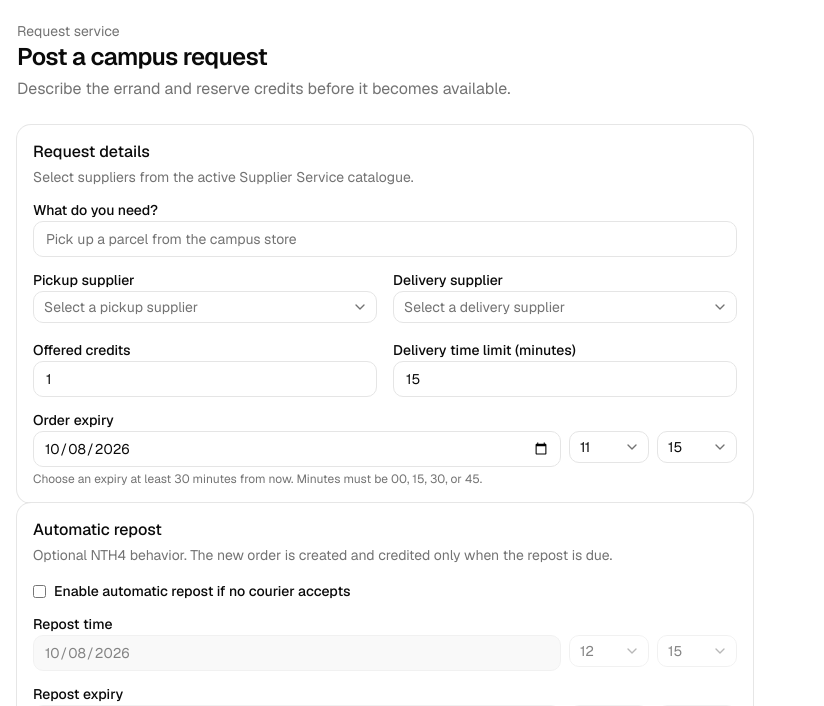
request creation quarter-hour time integration › has a required automatic-repost expiry with quarter-hour minutes only
The image size is (824, 706).
Click the checkbox labelled "Enable automatic repost if no courier accepts".
click(40, 591)  # box [33,584,46,598]
(page scrolled)
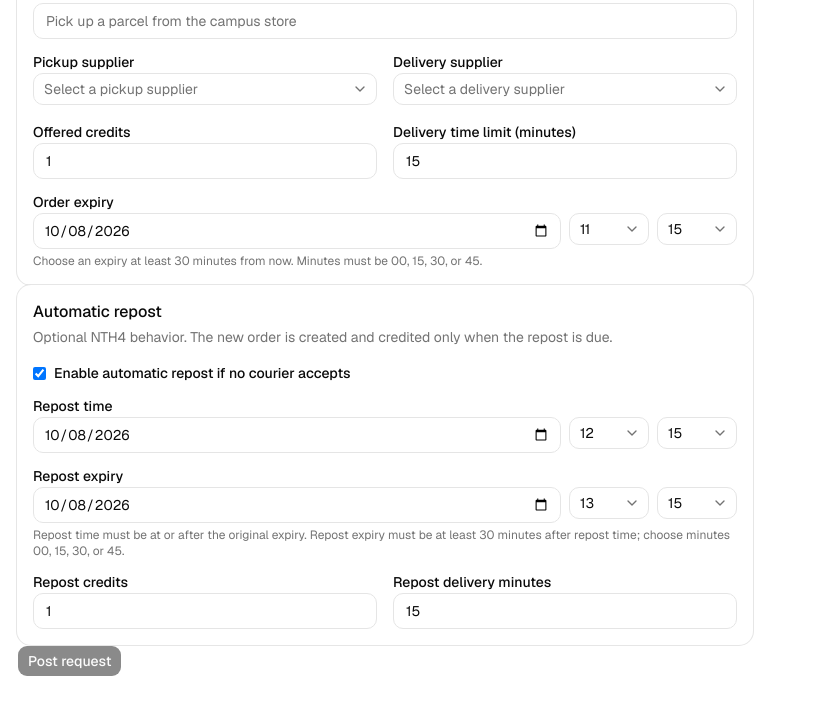
Click the 3rd dropdown labelled "15 ▼".
click(697, 503)  # box [657,487,737,519]
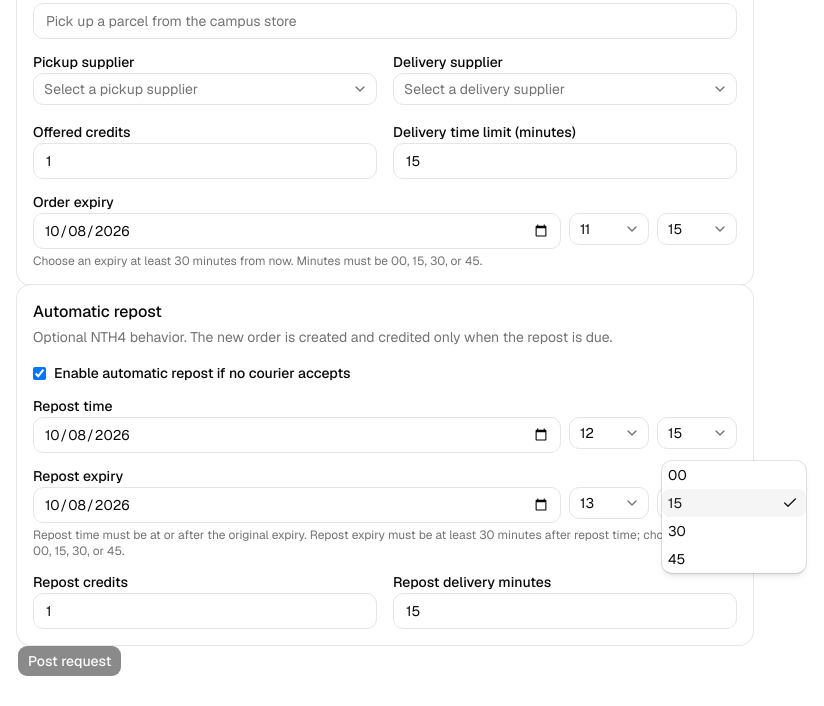
expect the options read "00", "15", "30", "45", in this order: met, box [668,466,687,484]; [662,489,806,517]; [668,522,686,540]; [668,550,685,568]
